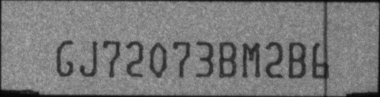2: (126, 40, 144, 78), (264, 41, 282, 79)
3: (195, 39, 214, 77)
6: (312, 41, 330, 80)
7: (102, 39, 121, 77), (172, 41, 192, 77)
B: (288, 40, 307, 78), (219, 39, 237, 78)
G: (55, 39, 74, 77)
J: (79, 39, 97, 77)
M: (241, 41, 260, 79)
O: (148, 42, 167, 77)
